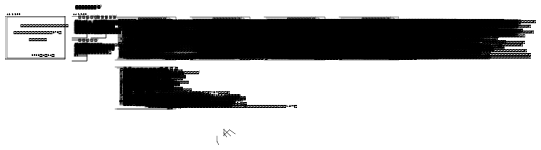door: (193, 53, 195, 55), (193, 51, 195, 53), (192, 53, 194, 55), (192, 51, 194, 53), (158, 83, 159, 84), (193, 49, 194, 49), (159, 85, 160, 85)
exit: (162, 56, 163, 56)
room: (209, 61, 223, 88), (209, 45, 223, 58)
wall: (300, 11, 308, 18), (193, 74, 194, 74)
window: (300, 10, 310, 18), (308, 13, 316, 18), (300, 9, 304, 14), (291, 0, 293, 4)
